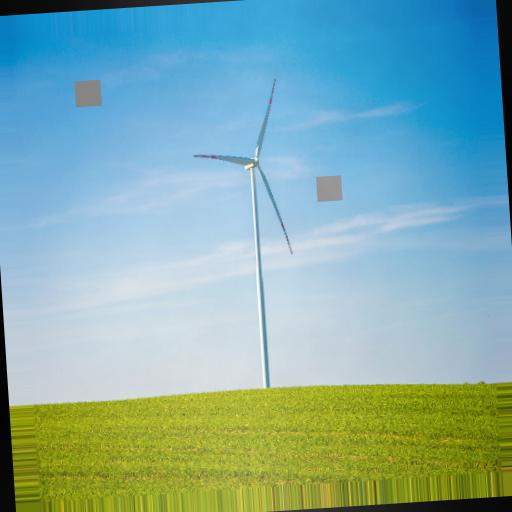wind turbine: (192, 78, 294, 389)
